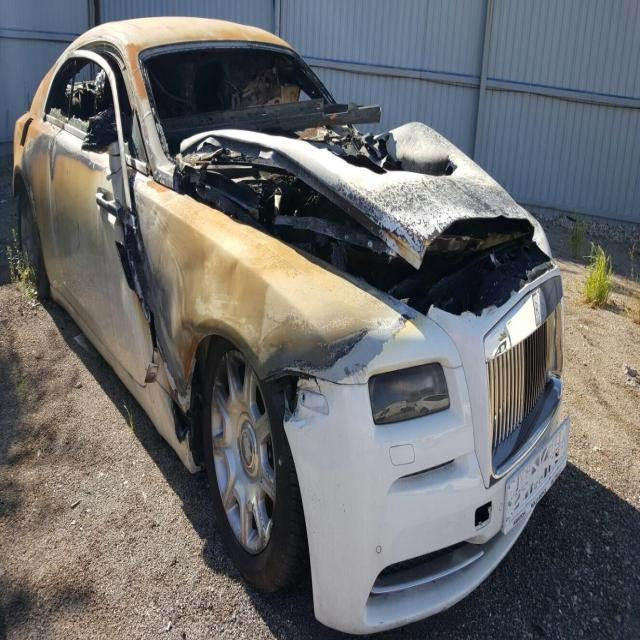crush: (11, 16, 553, 476)
